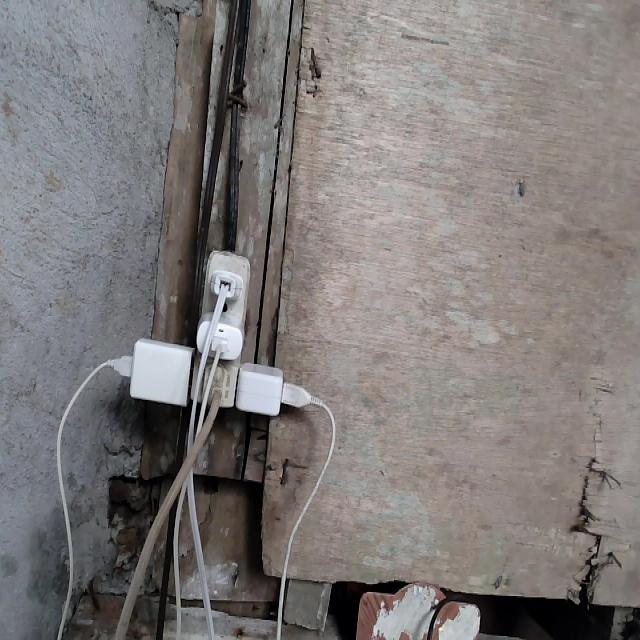-: (105, 244, 319, 417)
